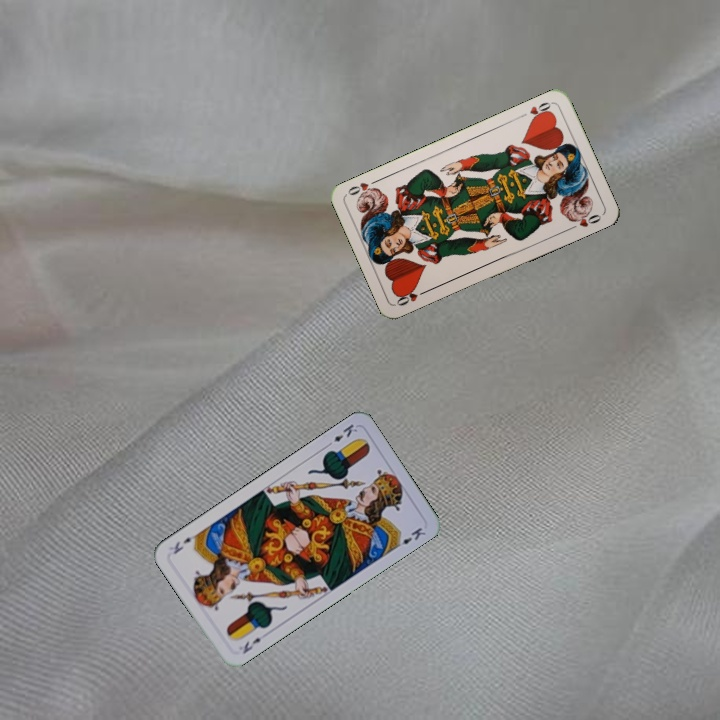EK: (322, 420, 360, 450), (238, 633, 264, 657)
HO: (516, 98, 554, 123), (392, 285, 431, 309)
